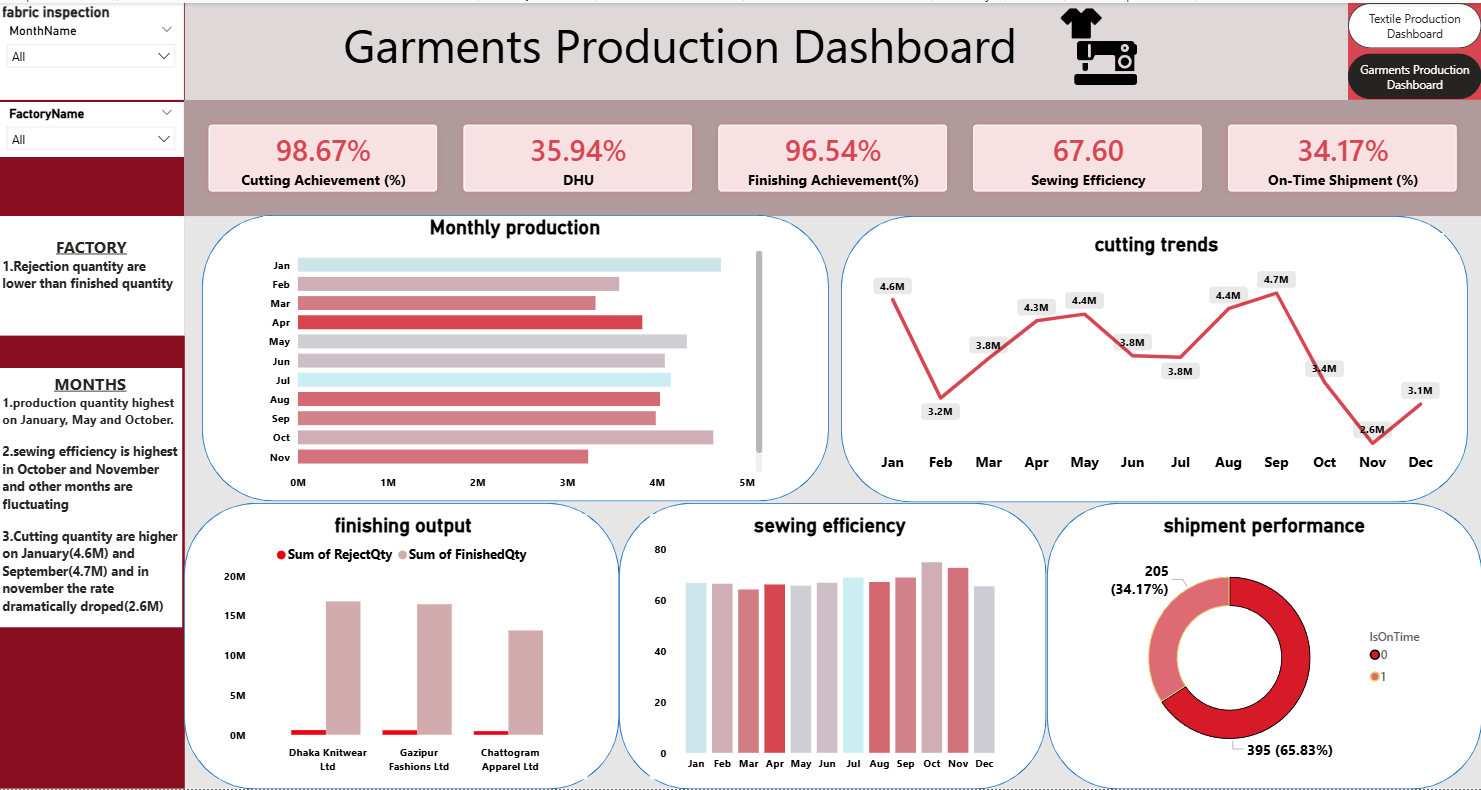

The dashboard page shown, as its layout file describes it:
{"tool":"powerbi","page":{"name":"Garments Production Dashboard","canvas":[1700,900],"ordinal":1},"visuals":[{"type":"shape","box":[214.1,0,1485.9,131],"z":0},{"type":"shape","box":[0,0,214.1,900],"z":1000},{"type":"textbox","box":[235.5,5.3,1090.8,102.6],"z":2000},{"type":"textbox","box":[214.1,243.7,1485.9,656.3],"z":3000},{"type":"cardVisual","fields":{"Data":["Measure.Cutting Achievement (%)","Measure.DHU","Measure.Finishing Achievement (%)","Measure.Sewing Efficiency (%)","Measure.On-Time Shipment (%)"]},"box":[213.1,111.1,1486.9,133.1],"z":4000},{"type":"slicer","fields":{"Values":["dim_factory.FactoryName"]},"box":[0,113.9,212.7,63.3],"z":5000},{"type":"slicer","title":"fabric inspection ","fields":{"Values":["dim_date.MonthName"]},"box":[0,0,212.7,111.4],"z":6000},{"type":"textbox","box":[0,417.7,211.4,297.5],"z":7000},{"type":"shape","box":[213.1,572.3,498.6,328.1],"z":8000},{"type":"shape","box":[711.8,572.3,489.6,328.1],"z":9000},{"type":"shape","box":[1201.4,572.3,498.6,328.1],"z":10000},{"type":"shape","box":[966.3,244.1,718.2,328.1],"z":11000},{"type":"shape","box":[233.8,242.9,718.2,328.1],"z":12000},{"type":"lineChart","title":"cutting trends","fields":{"Y":["Sum(fact_cutting_daily.CutQty)"],"Category":["dim_date.MonthName"]},"box":[997.3,263.5,658.8,282.9],"z":13000},{"type":"clusteredColumnChart","title":"finishing output","fields":{"Category":["dim_factory.FactoryName"],"Y":["Sum(fact_finishing_daily.RejectQty)","Sum(fact_finishing_daily.FinishedQty)"]},"box":[253.2,585.2,422.4,303.6],"z":14000},{"type":"clusteredColumnChart","title":"sewing efficiency","fields":{"Y":["Measure.Sewing Efficiency (%)"],"Category":["dim_date.MonthName"]},"box":[746.7,585.2,412.1,303.6],"z":15000},{"type":"clusteredBarChart","title":"Monthly production","fields":{"Y":["Sum(fact_production_daily.ProducedQty)"],"Category":["dim_date.MonthName"]},"box":[303.6,244.1,577.4,322.9],"z":16000},{"type":"donutChart","title":"shipment performance","fields":{"Y":["CountNonNull(fact_shipment.ShipmentID)"],"Category":["fact_shipment.IsOnTime"]},"box":[1245.3,585.2,410.8,303.6],"z":17000},{"type":"pageNavigator","box":[1546,0,154,110.7],"z":18000},{"type":"image","box":[1157.9,0,205.3,100],"z":19000},{"type":"textbox","box":[0,244.3,213.9,136.7],"z":20000}]}

Visuals, with their boxes in screenshot pixels (x1, y1, x2, y2), scaled from the page's 1700x900 canvas onto the 1481x790 screenshot:
shape: 187, 0, 1480, 115
shape: 0, 0, 187, 789
textbox: 205, 5, 1155, 95
textbox: 187, 214, 1480, 789
cardVisual - Measure.Cutting Achievement (%) x Measure.DHU: 186, 98, 1480, 214
slicer - dim_factory.FactoryName: 0, 100, 185, 156
"fabric inspection " slicer: 0, 0, 185, 98
textbox: 0, 367, 184, 628
shape: 186, 502, 620, 789
shape: 620, 502, 1047, 789
shape: 1047, 502, 1480, 789
shape: 842, 214, 1467, 502
shape: 204, 213, 829, 501
"cutting trends" lineChart: 869, 231, 1443, 480
"finishing output" clusteredColumnChart: 221, 514, 589, 780
"sewing efficiency" clusteredColumnChart: 651, 514, 1010, 780
"Monthly production" clusteredBarChart: 264, 214, 768, 498
"shipment performance" donutChart: 1085, 514, 1443, 780
pageNavigator: 1347, 0, 1480, 97
image: 1009, 0, 1188, 88
textbox: 0, 214, 186, 334
